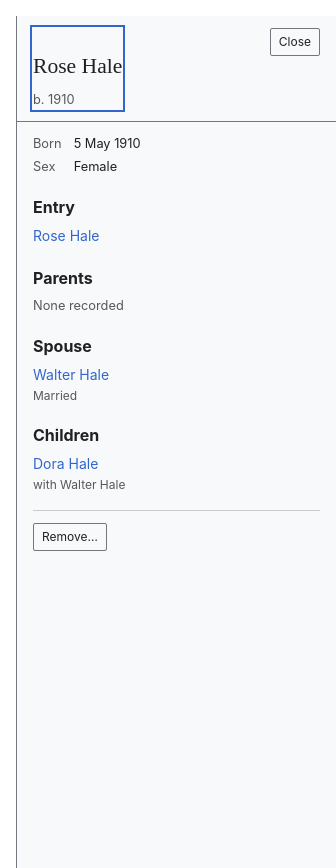
Test: a deep link that opens on a person with an entry › swaps the entry when a relative's link moves the deep-linked selection
The image size is (336, 868).
Step 1. Click the button "Dora Hale" → click(66, 464), box [33,453,98,476]
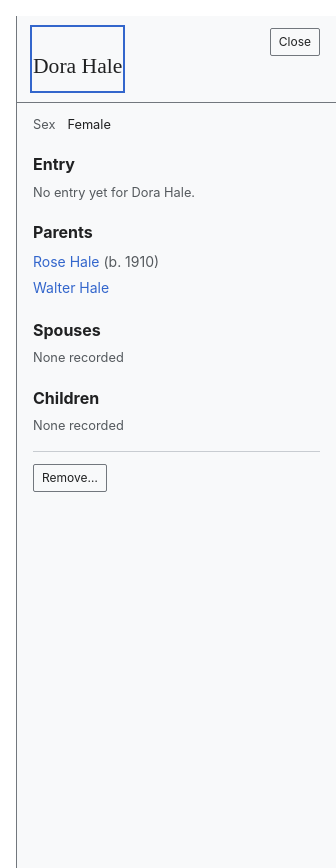
Check: the text "No entry yet for Dora Hale" is shown, box [33,185,195,200]
